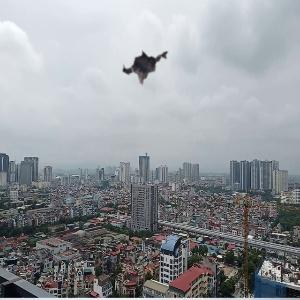drone: (112, 33, 175, 96)
